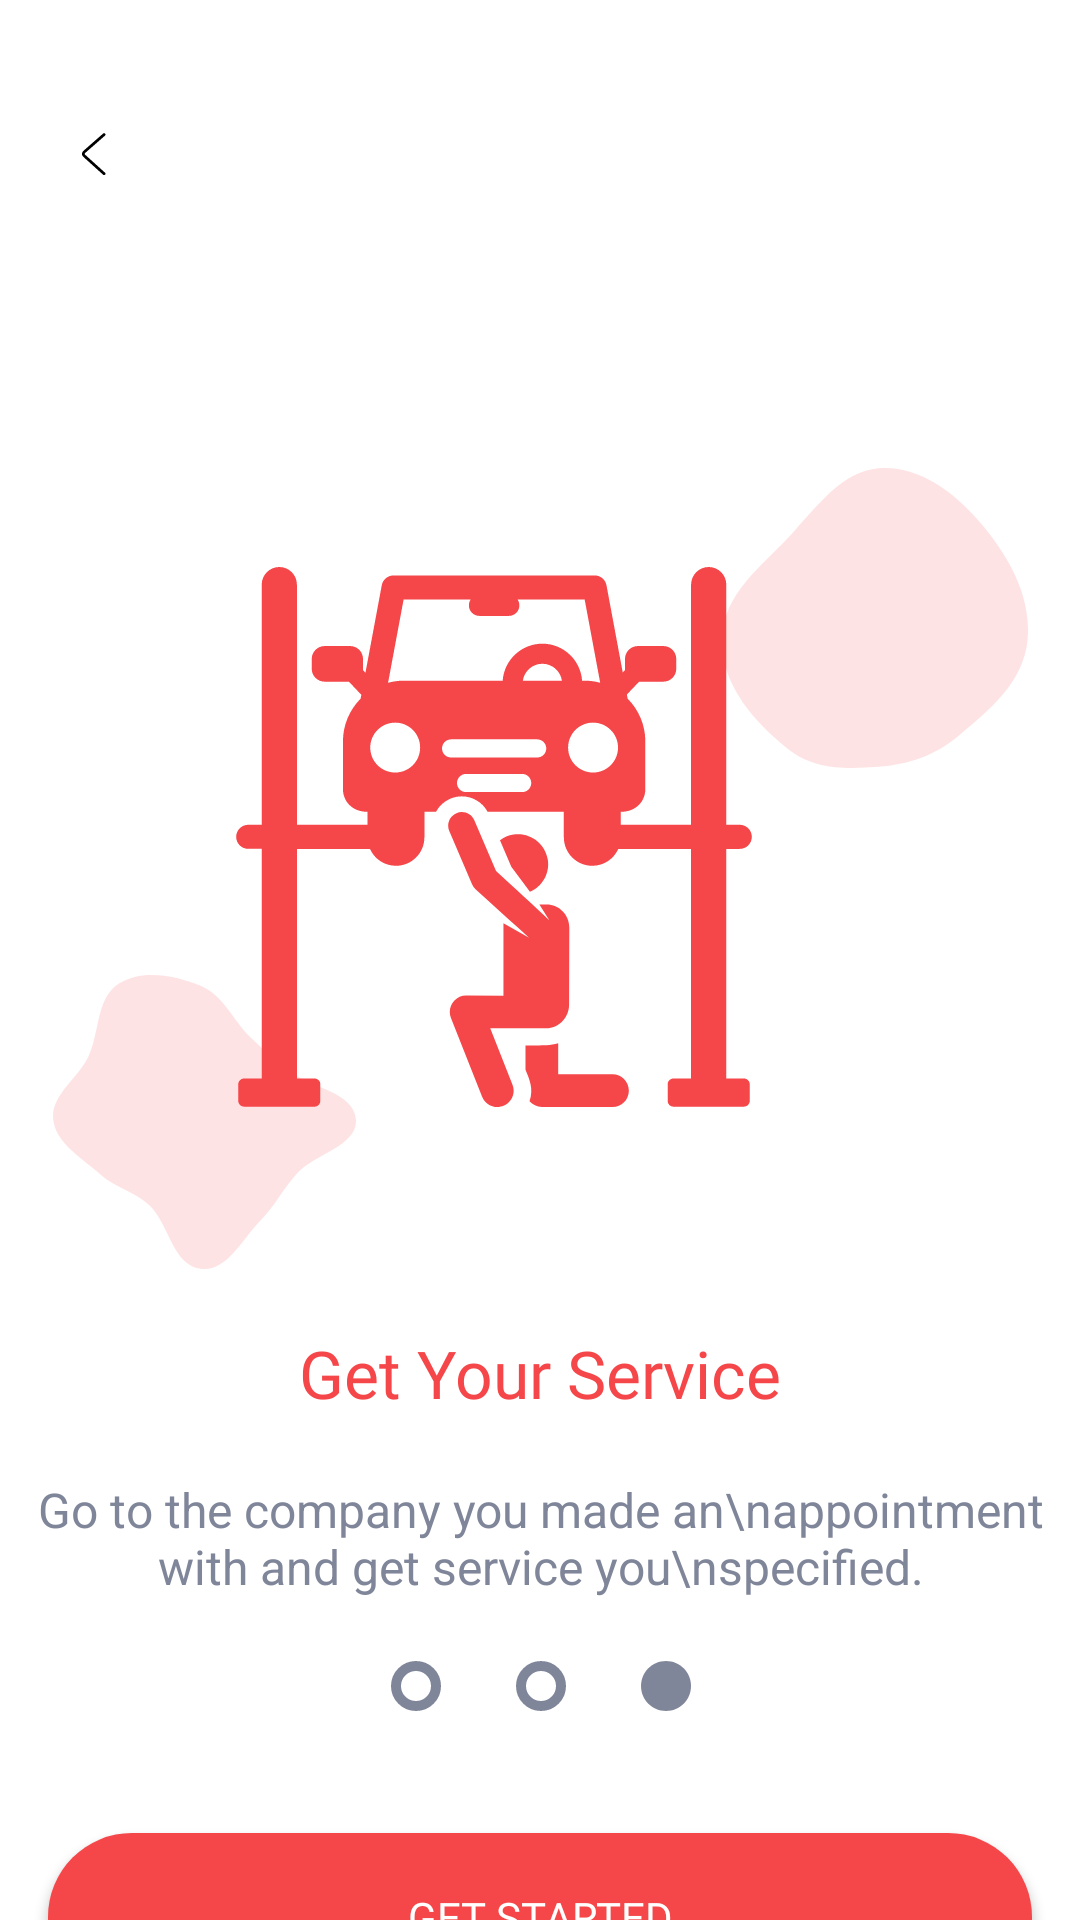

Named icons in this screenshot (1080px x 1920px) and their centers, point (x, y):
back: point (94, 154)
dots: point (541, 1686)
